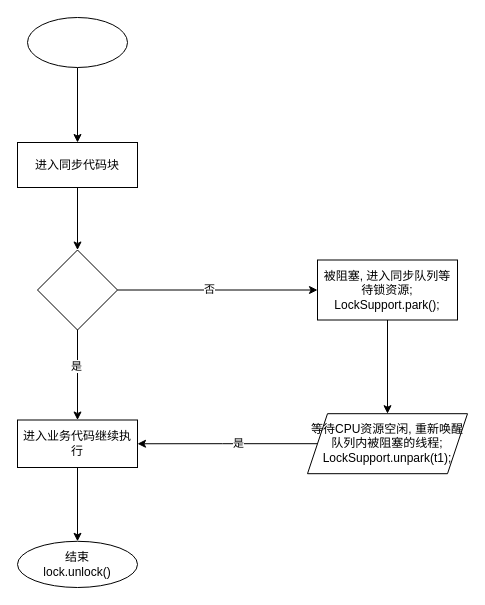
Some shapes in this 485 by 605 pixel diagram are drawn without their labels. The shapes that lost their labels are listed below. From the top down, each one's box as (x1, y1, x2, y2) in pixels, then its label:
(26, 16, 128, 68): 开始 lock.lock()
(36, 249, 118, 330): 获取锁资源
